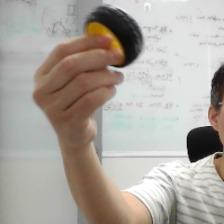wheel: (84, 2, 145, 68)
